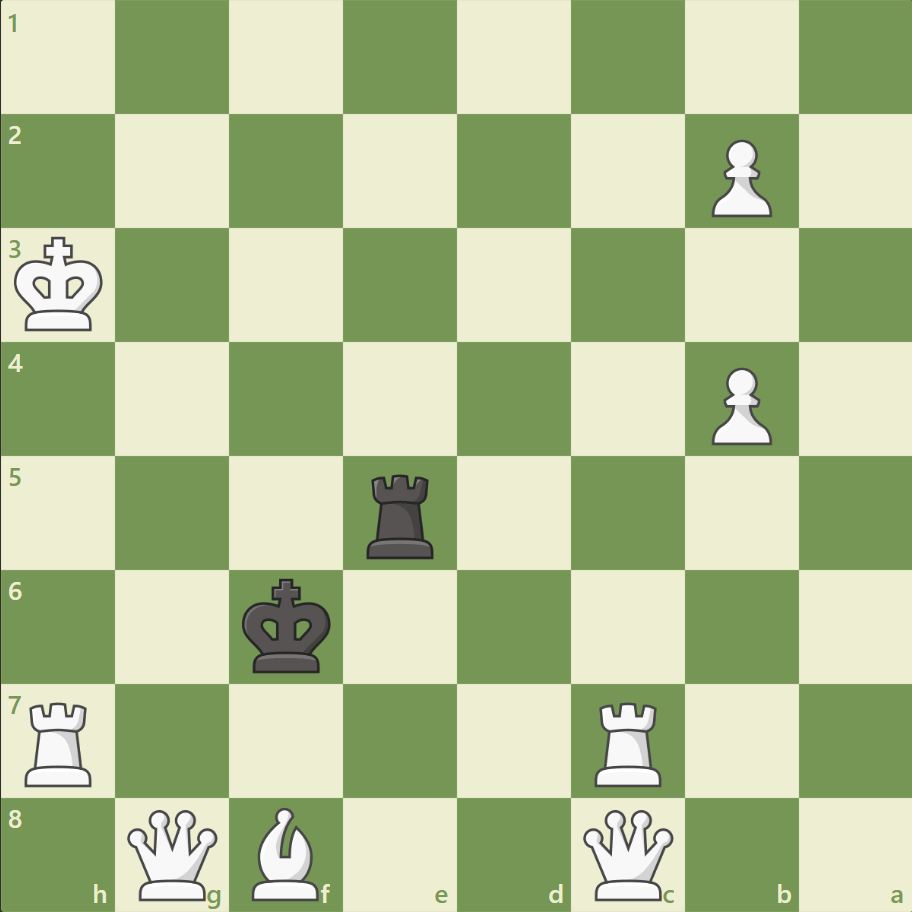B: (244, 801, 328, 904)
K: (11, 231, 111, 339)
P: (701, 359, 776, 450), (701, 132, 776, 223)
Q: (578, 804, 677, 903), (124, 804, 223, 903)
R: (587, 693, 670, 790), (19, 693, 102, 790)
k: (238, 571, 338, 679)
r: (360, 466, 442, 563)
